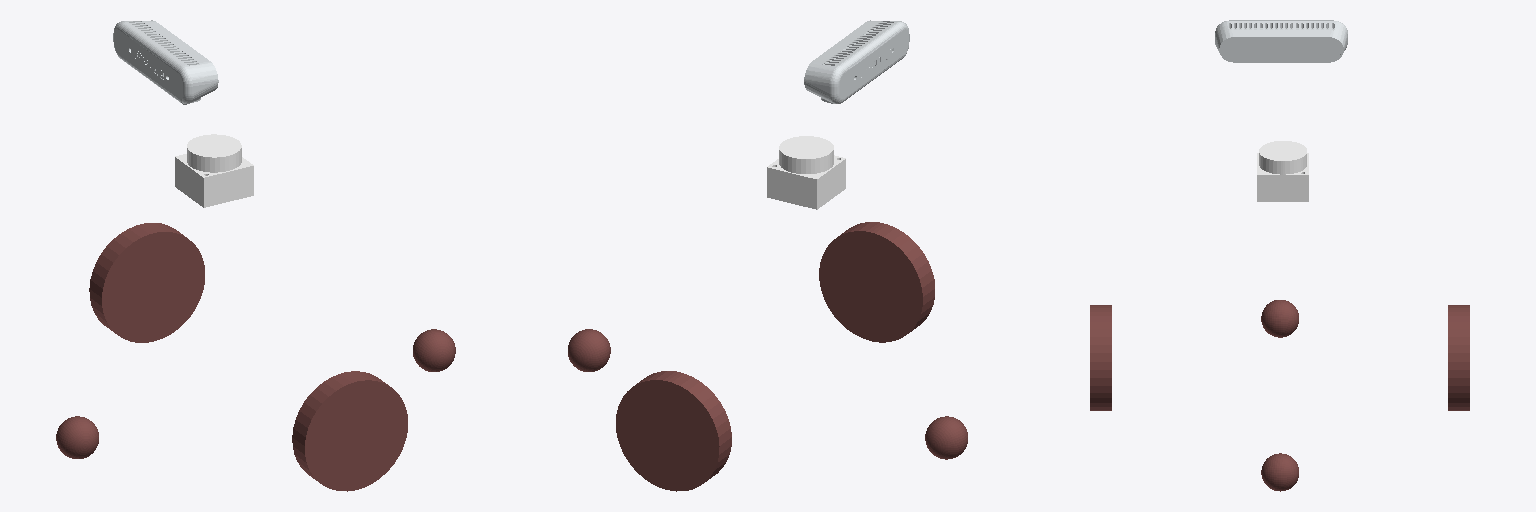
URDF robot description (romba_final7):
<?xml version="1.0" encoding="utf-8"?>
<!-- This URDF was automatically created by SolidWorks to URDF Exporter! Originally created by [author] ([email redacted]) 
     Commit Version: 1.6.0-4-g7f85cfe  Build Version: 1.6.7995.38578
     For more information, please see http://wiki.ros.org/sw_urdf_exporter -->
<robot
  name="romba_final7">
  <link
    name="base_link">
    <inertial>
      <origin
        xyz="-0.012852 0.00021377 0.095235"
        rpy="0 0 0" />
      <mass
        value="1.0281" />
      <inertia
        ixx="0.0059108"
        ixy="9.6296E-06"
        ixz="2.9882E-05"
        iyy="0.0040504"
        iyz="-3.7361E-07"
        izz="0.0097661" />
    </inertial>
    <visual>
      <origin
        xyz="0 0 0"
        rpy="0 0 0" />
      <geometry>
        <mesh
          filename="package://romba_final7/meshes/base_link.STL" />
      </geometry>
      <material
        name="">
        <color
          rgba="0.53725 0.34902 0.33725 1" />
      </material>
    </visual>
    <collision>
      <origin
        xyz="0 0 0"
        rpy="0 0 0" />
      <geometry>
        <mesh
          filename="package://romba_final7/meshes/base_link.STL" />
      </geometry>
    </collision>
  </link>
  <link
    name="rueda_derecha_link">
    <inertial>
      <origin
        xyz="0 -1.3878E-17 0.0075"
        rpy="0 0 0" />
      <mass
        value="0.53306" />
      <inertia
        ixx="0.00018604"
        ixy="5.9215E-35"
        ixz="1.7205E-19"
        iyy="0.00018604"
        iyz="5.9601E-20"
        izz="0.00035209" />
    </inertial>
    <visual>
      <origin
        xyz="0 0 0"
        rpy="0 0 0" />
      <geometry>
        <mesh
          filename="package://romba_final7/meshes/rueda_derecha_link.STL" />
      </geometry>
      <material
        name="">
        <color
          rgba="0.53725 0.34902 0.33725 1" />
      </material>
    </visual>
    <collision>
      <origin
        xyz="0 0 0"
        rpy="0 0 0" />
      <geometry>
        <mesh
          filename="package://romba_final7/meshes/rueda_derecha_link.STL" />
      </geometry>
    </collision>
  </link>
  <joint
    name="derecha_joint"
    type="continuous">
    <origin
      xyz="0.0028919 -0.122 0.018229"
      rpy="1.5708 0 3.1416" />
    <parent
      link="base_link" />
    <child
      link="rueda_derecha_link" />
    <axis
      xyz="0 0 1" />
    <limit
      effort="100"
      velocity="100" />
    <dynamics
      damping="0.1"
      friction="0.1" />
  </joint>
  <link
    name="rueda_izquierda_link">
    <inertial>
      <origin
        xyz="0 -1.3878E-17 -0.0075"
        rpy="0 0 0" />
      <mass
        value="0.53306" />
      <inertia
        ixx="0.00018604"
        ixy="-5.5945E-21"
        ixz="1.2078E-19"
        iyy="0.00018604"
        iyz="6.9269E-20"
        izz="0.00035209" />
    </inertial>
    <visual>
      <origin
        xyz="0 0 0"
        rpy="0 0 0" />
      <geometry>
        <mesh
          filename="package://romba_final7/meshes/rueda_izquierda_link.STL" />
      </geometry>
      <material
        name="">
        <color
          rgba="0.53725 0.34902 0.33725 1" />
      </material>
    </visual>
    <collision>
      <origin
        xyz="0 0 0"
        rpy="0 0 0" />
      <geometry>
        <mesh
          filename="package://romba_final7/meshes/rueda_izquierda_link.STL" />
      </geometry>
    </collision>
  </link>
  <joint
    name="izquierda_joint"
    type="continuous">
    <origin
      xyz="0.0028919 0.12199 0.018229"
      rpy="1.5708 0 3.1416" />
    <parent
      link="base_link" />
    <child
      link="rueda_izquierda_link" />
    <axis
      xyz="0 0 1" />
    <limit
      effort="100"
      velocity="100" />
    <dynamics
      damping="0.1"
      friction="0.1" />
  </joint>
  <link
    name="castor_front_link">
    <inertial>
      <origin
        xyz="0 0 -0.000305158376732312"
        rpy="0 0 0" />
      <mass
        value="0.0377583102708451" />
      <inertia
        ixx="1.71192991486171E-06"
        ixy="0"
        ixz="-7.47071207291216E-23"
        iyy="1.71192991486171E-06"
        iyz="6.25066770861755E-23"
        izz="1.93681067303436E-06" />
    </inertial>
    <visual>
      <origin
        xyz="0 0 0"
        rpy="0 0 0" />
      <geometry>
        <mesh
          filename="package://romba_final7/meshes/castor_front_link.STL" />
      </geometry>
      <material
        name="">
        <color
          rgba="0.537254901960784 0.349019607843137 0.337254901960784 1" />
      </material>
    </visual>
    <collision>
      <origin
        xyz="0 0 0"
        rpy="0 0 0" />
      <geometry>
        <mesh
          filename="package://romba_final7/meshes/castor_front_link.STL" />
      </geometry>
    </collision>
  </link>
  <joint
    name="castor_front_joint"
    type="fixed">
    <origin
      xyz="0.13178 0.00026847 -0.0077659"
      rpy="0 0 -0.15476" />
    <parent
      link="base_link" />
    <child
      link="castor_front_link" />
    <axis
      xyz="0 0 0" />
    <limit
      effort="100"
      velocity="100" />
    <dynamics
      damping="0.1"
      friction="0.1" />
  </joint>
  <link
    name="castor_back_link">
    <inertial>
      <origin
        xyz="-1.3878E-17 -3.4694E-18 -0.00030516"
        rpy="0 0 0" />
      <mass
        value="0.037758" />
      <inertia
        ixx="1.7119E-06"
        ixy="2.647E-23"
        ixz="1.1262E-23"
        iyy="1.7119E-06"
        iyz="1.6053E-23"
        izz="1.9368E-06" />
    </inertial>
    <visual>
      <origin
        xyz="0 0 0"
        rpy="0 0 0" />
      <geometry>
        <mesh
          filename="package://romba_final7/meshes/castor_back_link.STL" />
      </geometry>
      <material
        name="">
        <color
          rgba="0.53725 0.34902 0.33725 1" />
      </material>
    </visual>
    <collision>
      <origin
        xyz="0 0 0"
        rpy="0 0 0" />
      <geometry>
        <mesh
          filename="package://romba_final7/meshes/castor_back_link.STL" />
      </geometry>
    </collision>
  </link>
  <joint
    name="castor_back_joint"
    type="fixed">
    <origin
      xyz="-0.11581 0.00019601 -0.0077659"
      rpy="0 0 -0.15477" />
    <parent
      link="base_link" />
    <child
      link="castor_back_link" />
    <axis
      xyz="0 0 0" />
    <limit
      effort="100"
      velocity="100" />
    <dynamics
      damping="0.1"
      friction="0.1" />
  </joint>
  <link
    name="camara_link">
    <inertial>
      <origin
        xyz="0.011556 8.1034E-06 -0.00013612"
        rpy="0 0 0" />
      <mass
        value="0.10771" />
      <inertia
        ixx="7.1119E-05"
        ixy="-3.5434E-08"
        ixz="4.9148E-08"
        iyy="7.6952E-06"
        iyz="-1.1534E-10"
        izz="7.0122E-05" />
    </inertial>
    <visual>
      <origin
        xyz="0 0 0"
        rpy="0 0 0" />
      <geometry>
        <mesh
          filename="package://romba_final7/meshes/camara_link.STL" />
      </geometry>
      <material
        name="">
        <color
          rgba="0.89804 0.91765 0.92941 1" />
      </material>
    </visual>
    <collision>
      <origin
        xyz="0 0 0"
        rpy="0 0 0" />
      <geometry>
        <mesh
          filename="package://romba_final7/meshes/camara_link.STL" />
      </geometry>
    </collision>
  </link>
  <joint
    name="camara_joint"
    type="fixed">
    <origin
      xyz="-0.066 0.0010978 0.22823"
      rpy="0 0 0" />
    <parent
      link="base_link" />
    <child
      link="camara_link" />
    <axis
      xyz="0 0 0" />
    <limit
      effort="100"
      velocity="100" />
    <dynamics
      damping="0.1"
      friction="0.1" />
  </joint>
  <link
    name="lidar_link">
    <inertial>
      <origin
        xyz="0 0 0"
        rpy="0 0 0" />
      <mass
        value="0" />
      <inertia
        ixx="0"
        ixy="0"
        ixz="0"
        iyy="0"
        iyz="0"
        izz="0" />
    </inertial>
    <visual>
      <origin
        xyz="0 0 0"
        rpy="0 0 0" />
      <geometry>
        <mesh
          filename="package://romba_final7/meshes/lidar_link.STL" />
      </geometry>
      <material
        name="">
        <color
          rgba="1 1 1 1" />
      </material>
    </visual>
    <collision>
      <origin
        xyz="0 0 0"
        rpy="0 0 0" />
      <geometry>
        <mesh
          filename="package://romba_final7/meshes/lidar_link.STL" />
      </geometry>
    </collision>
  </link>
  <joint
    name="lidar_joint"
    type="fixed">
    <origin
      xyz="-0.019804 0.0021806 0.13273"
      rpy="0 0 0" />
    <parent
      link="base_link" />
    <child
      link="lidar_link" />
    <axis
      xyz="0 0 0" />
    <limit
      effort="100"
      velocity="100" />
    <dynamics
      damping="0.1"
      friction="0.1" />
  </joint>
</robot>

--- Render facts (derived) ---
The picture shows the robot from 3 angles, left to right: view 1: azimuth 30°, elevation 25°; view 2: azimuth 150°, elevation 25°; view 3: azimuth 270°, elevation 25°; orthographic projection.
Model romba_final7 with 7 links and 6 joints (2 continuous, 4 fixed), rooted at base_link, posed all joints at 0.
Links seen in each view (by area): view 1: rueda_izquierda_link, rueda_derecha_link, camara_link, lidar_link, castor_front_link, castor_back_link; view 2: rueda_derecha_link, rueda_izquierda_link, camara_link, lidar_link, castor_front_link, castor_back_link; view 3: camara_link, lidar_link, rueda_derecha_link, rueda_izquierda_link, castor_back_link, castor_front_link.
Boxes of the visible links, x1,y1,x2,y2 form: rueda_izquierda_link: (89, 223, 204, 342); rueda_derecha_link: (292, 371, 407, 491); camara_link: (113, 20, 218, 104); lidar_link: (175, 134, 253, 207); castor_front_link: (413, 329, 455, 371); castor_back_link: (56, 416, 98, 458); rueda_derecha_link: (819, 222, 934, 342); rueda_izquierda_link: (616, 371, 731, 491); camara_link: (804, 20, 909, 103); lidar_link: (767, 136, 845, 209); castor_front_link: (568, 329, 610, 371); castor_back_link: (925, 416, 967, 459); camara_link: (1215, 20, 1347, 62); lidar_link: (1257, 141, 1308, 201); rueda_derecha_link: (1090, 305, 1111, 410); rueda_izquierda_link: (1448, 305, 1469, 410); castor_back_link: (1261, 300, 1298, 337); castor_front_link: (1261, 453, 1298, 491).
Bounding box of the posed robot: 0.2735 × 0.259 × 0.2613 m (x, y, z).
Meshes: 7 distinct files referenced, 6 mesh visuals loaded (6 binary STL); not drawn: 1 (reference not matched to a file when rendering).